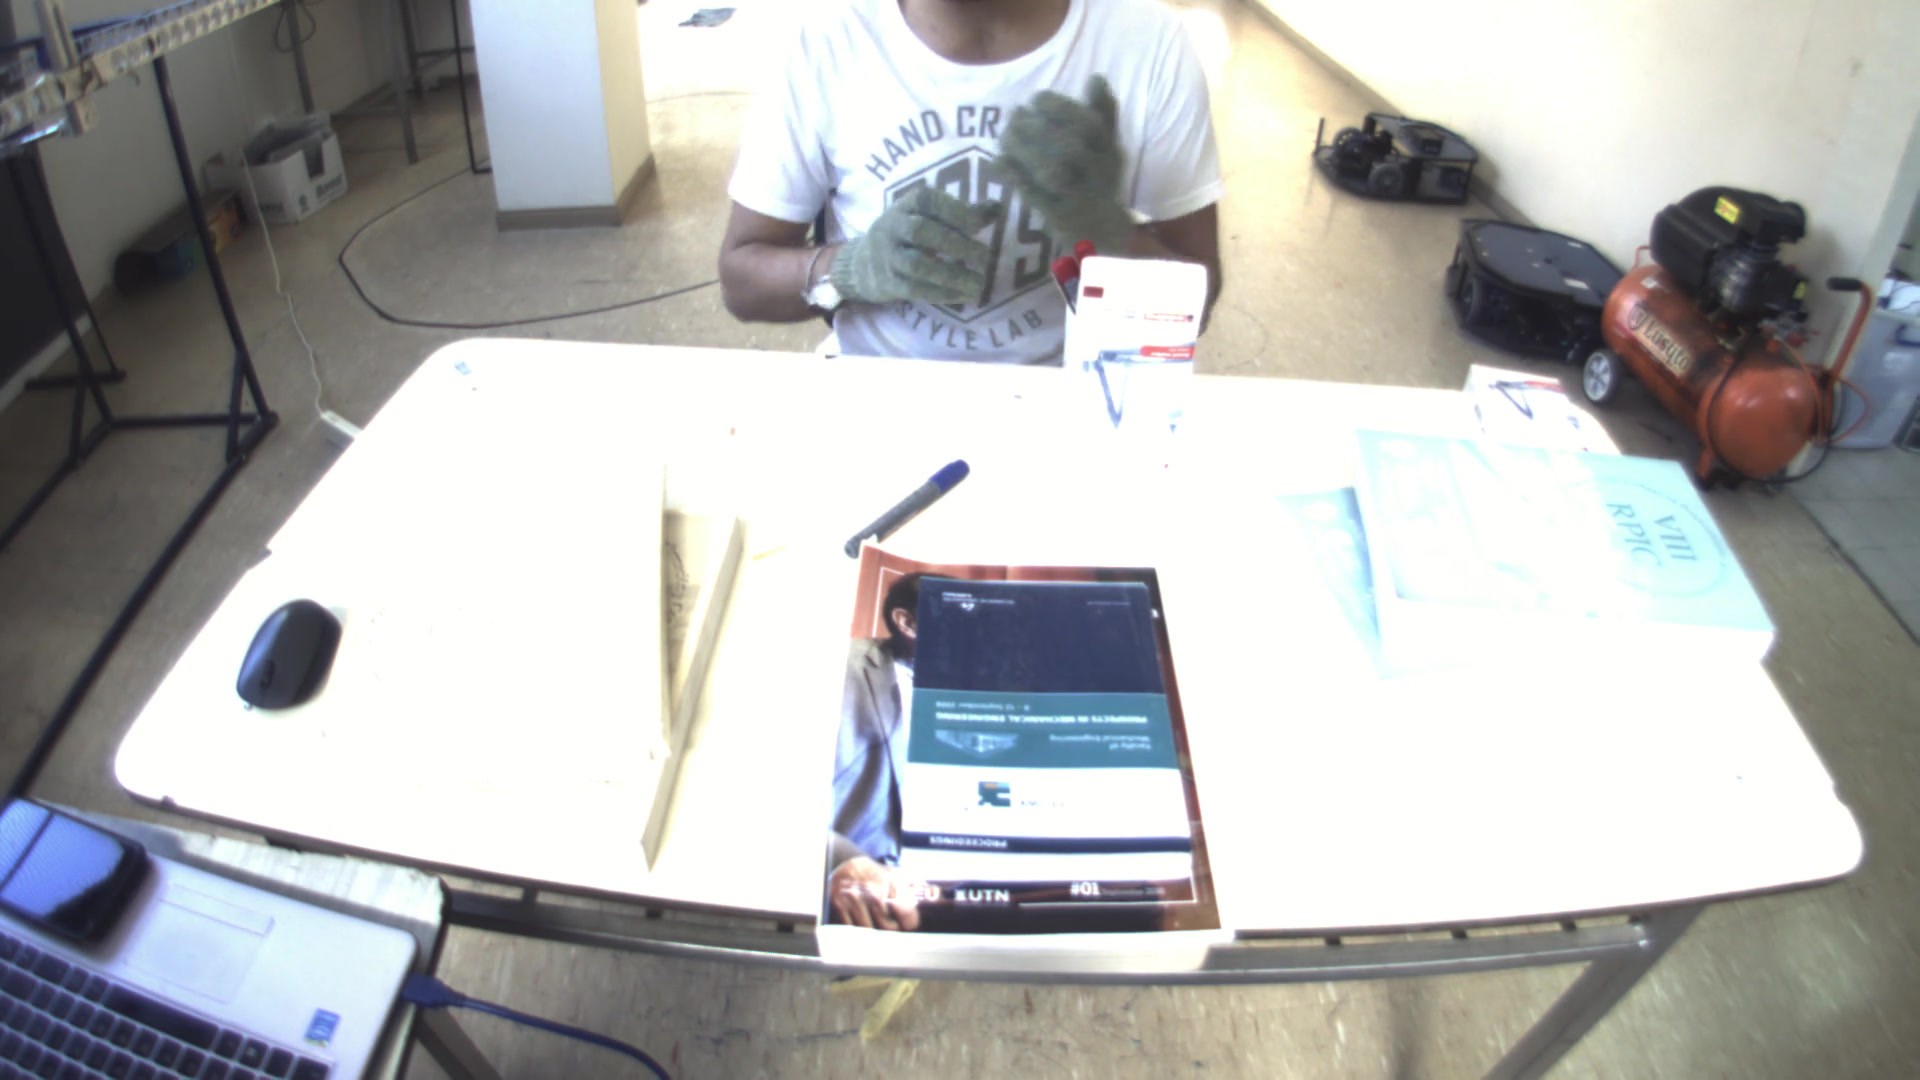hand: (989, 78, 1149, 248), (827, 189, 992, 328)
